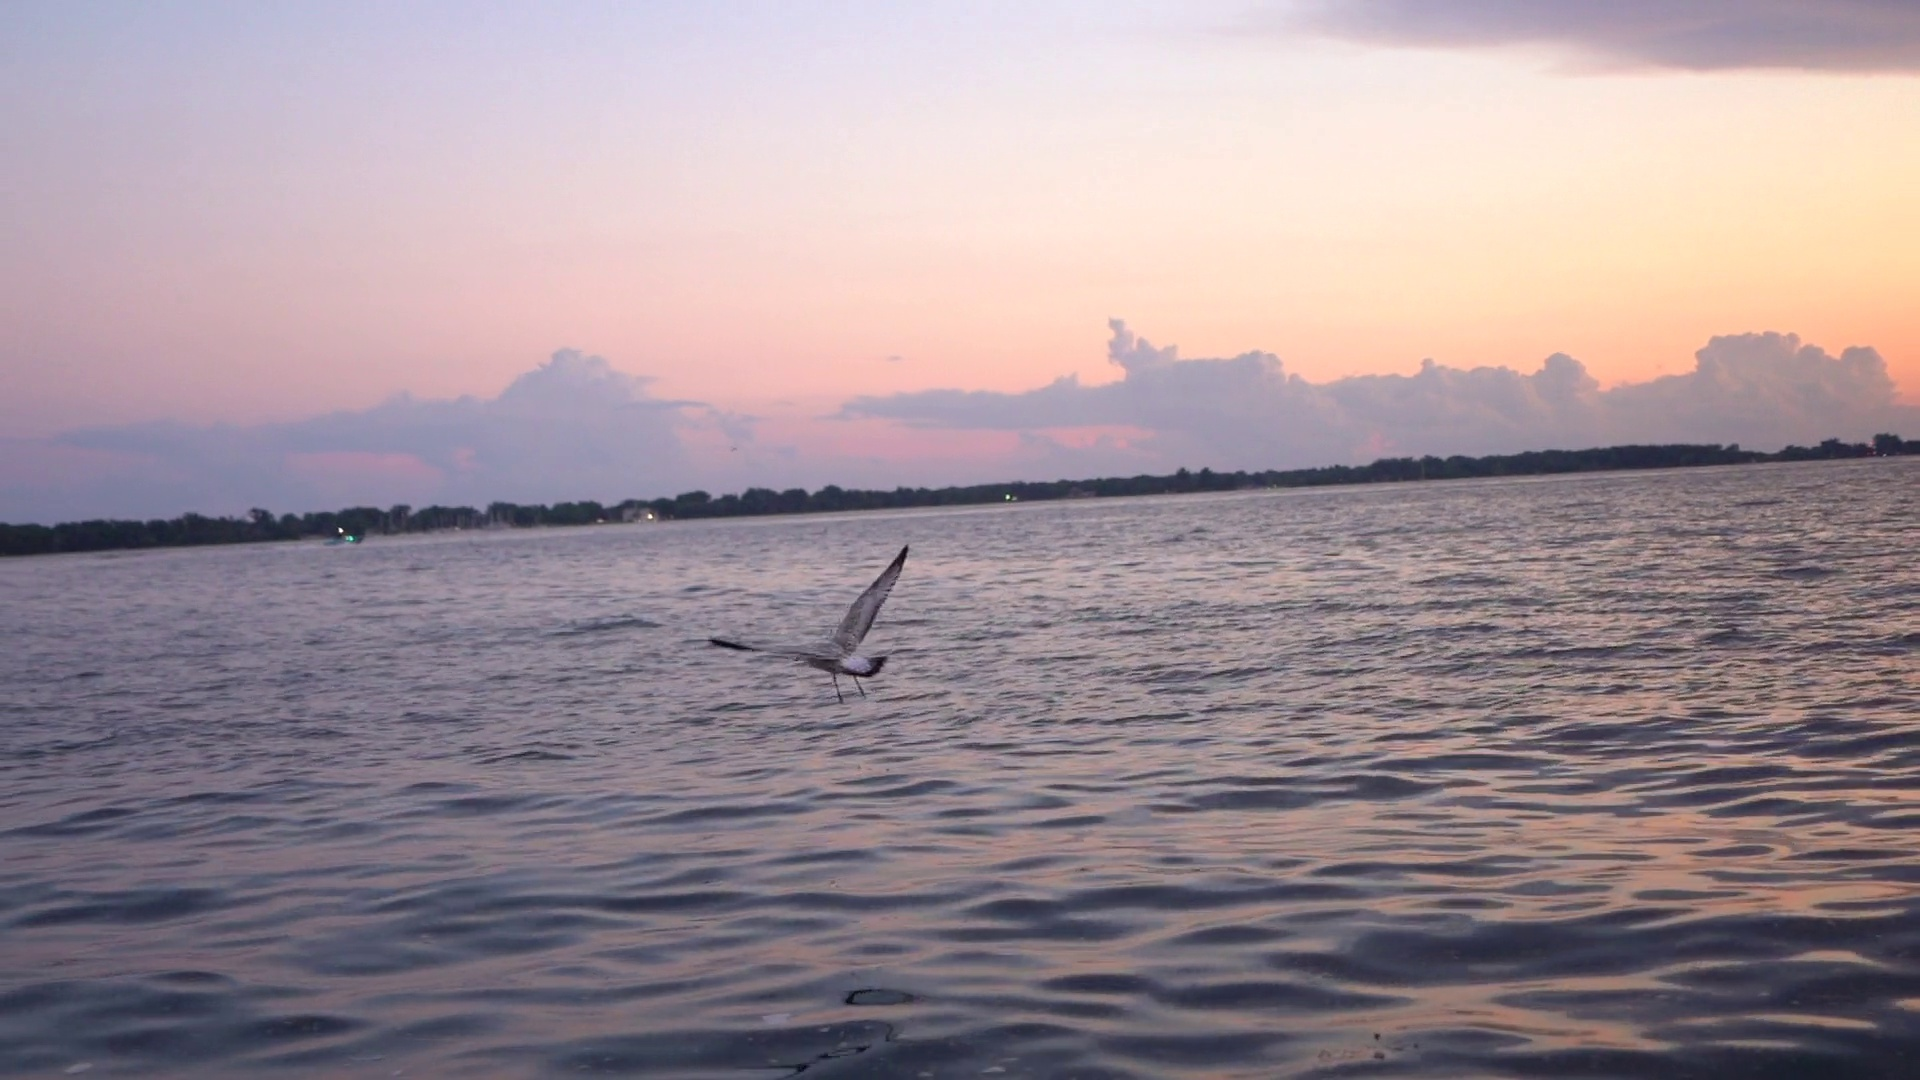bird: (709, 545, 910, 705)
